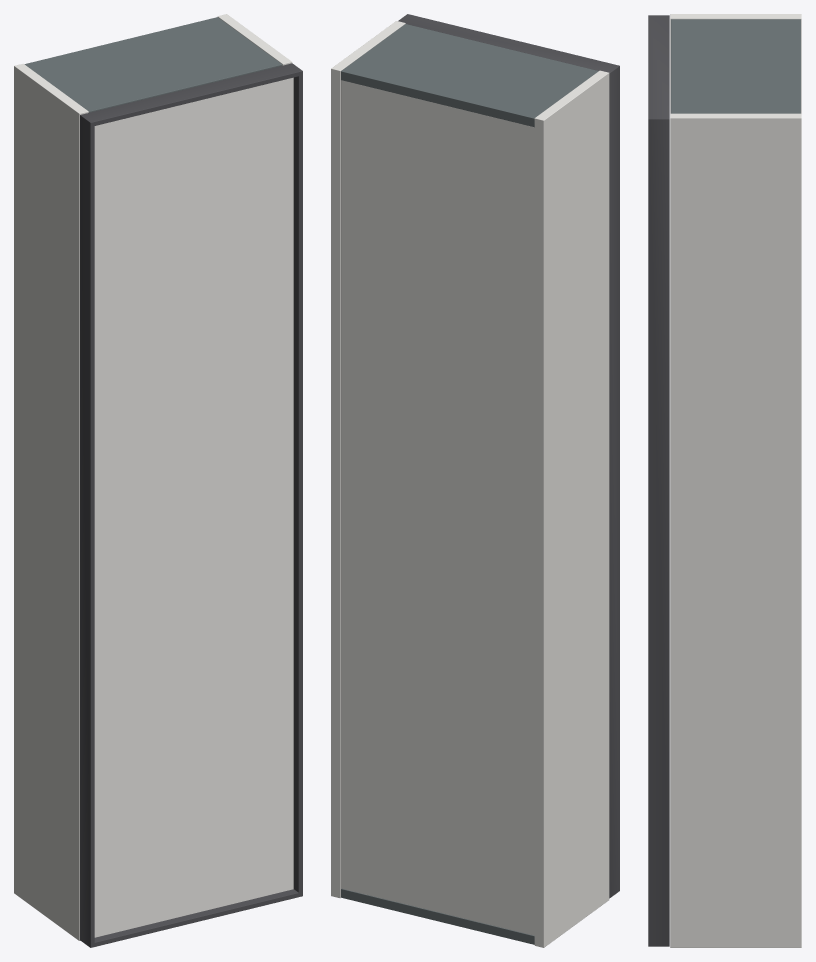
3 renders of one model, left to right at view 1: azimuth 30°, elevation 25°; view 2: azimuth 150°, elevation 25°; view 3: azimuth 270°, elevation 25°, orthographic.
Visible parts, largest first — view 1: AT10; view 2: AT10; view 3: AT10.
Boxes of the visible parts, x1=… form: AT10: x1=14, y1=14, x2=302, y2=947; AT10: x1=331, y1=14, x2=619, y2=947; AT10: x1=648, y1=14, x2=801, y2=947.
Bounding box in the file's own units: 0.404 × 1.5 × 0.251.
4 materials, 2 textured.
